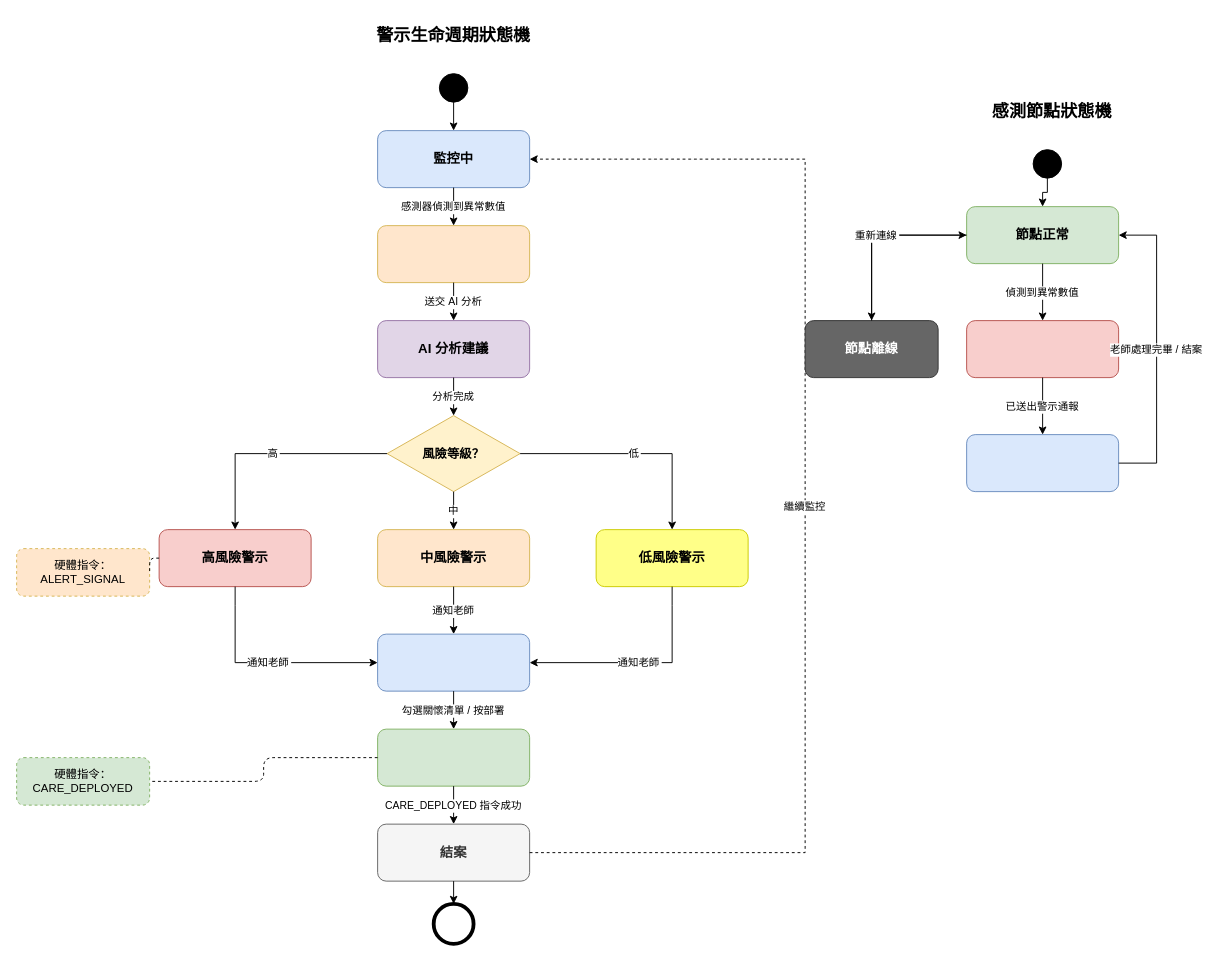
The diagram is 1221 pixels wide and 961 high, and some of its shapes have lost their labels. Here are the shapes that lost their labels. From the top down, the centre of each, then its label:
the point at 453,254: 偵測到異常
the point at 1042,349: 節點異常
the point at 1042,463: 通報完成
the point at 453,662: 老師處理中
the point at 453,757: 關懷部署
